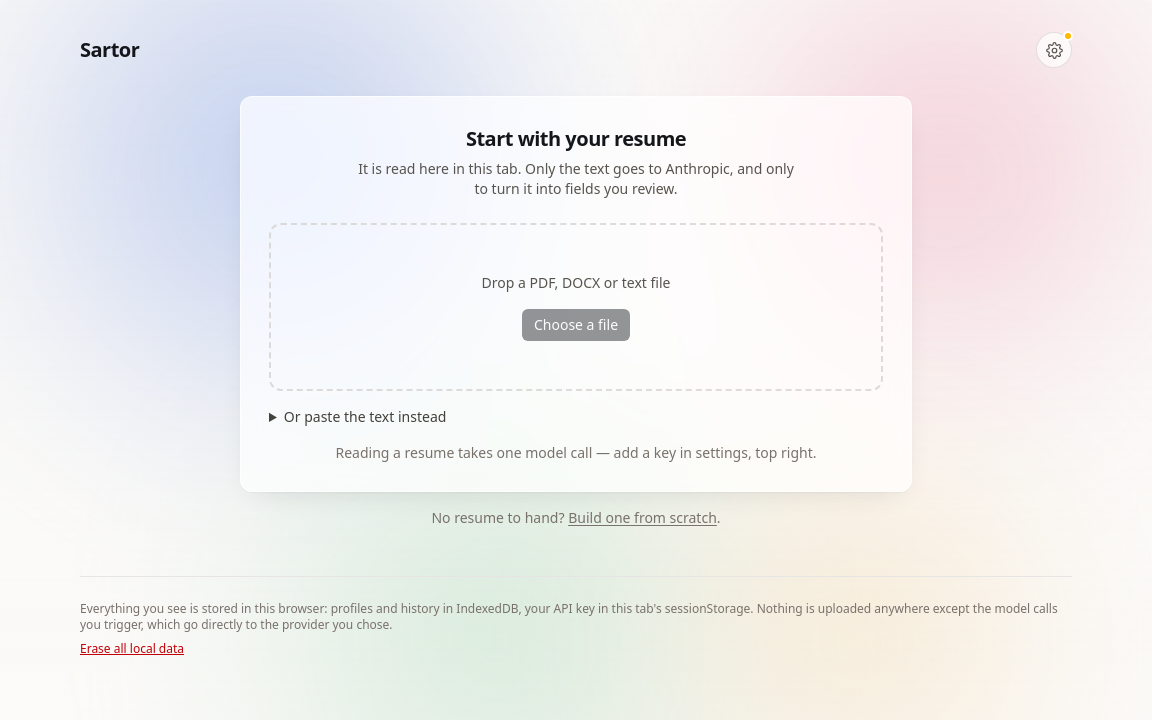
Test case: App › never renders the key in full unless it is asked for
Expected: the heading "Sartor" is shown, [80,36,139,64]
Click the button named "settings" at (1054, 50), box [1036,32,1072,68]
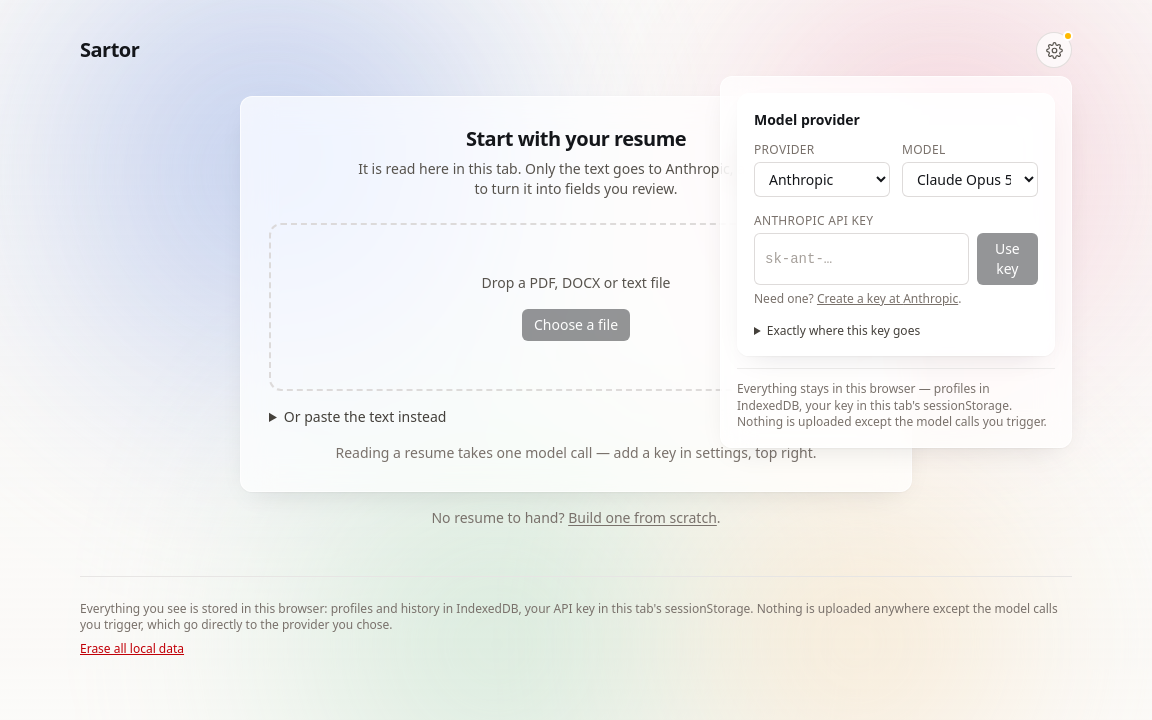
Now the dropdown labelled "Provider" is shown, box [754,162,890,197]
Type "sk-ant-supersecretvalue-abcdefg" into the password field labelled "Anthropic API key" at (861, 259), box [754,233,969,285]
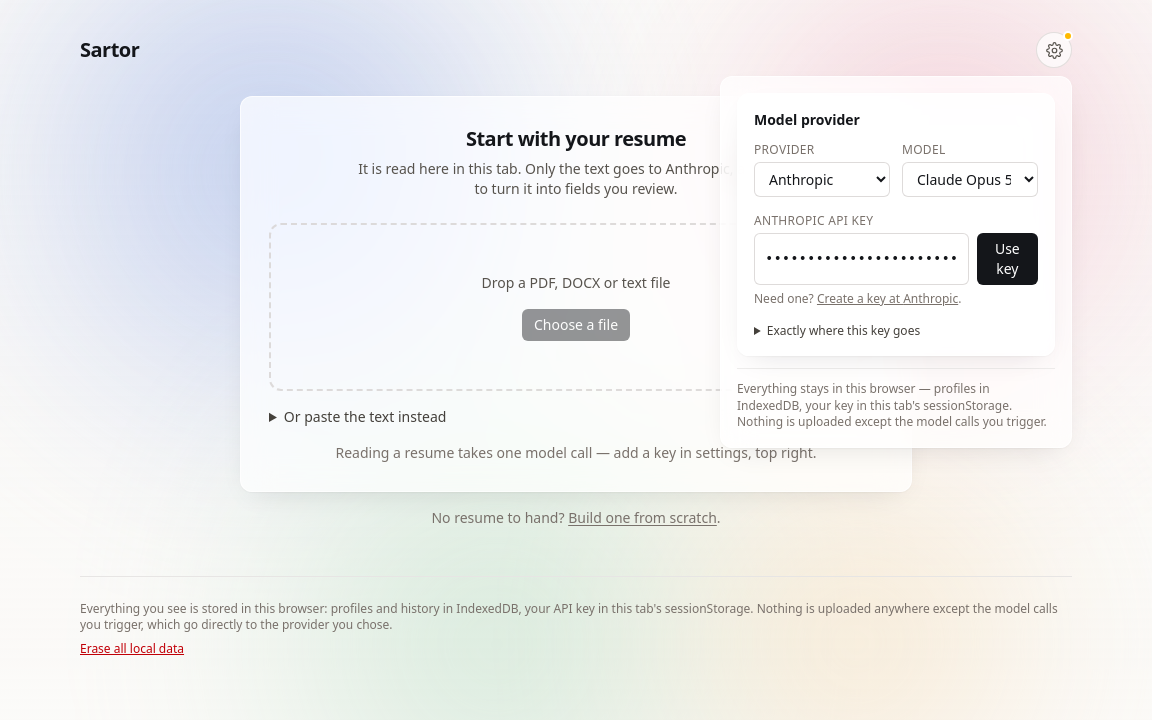
Click the button "Use key" at (1007, 259), box [977,233,1038,285]
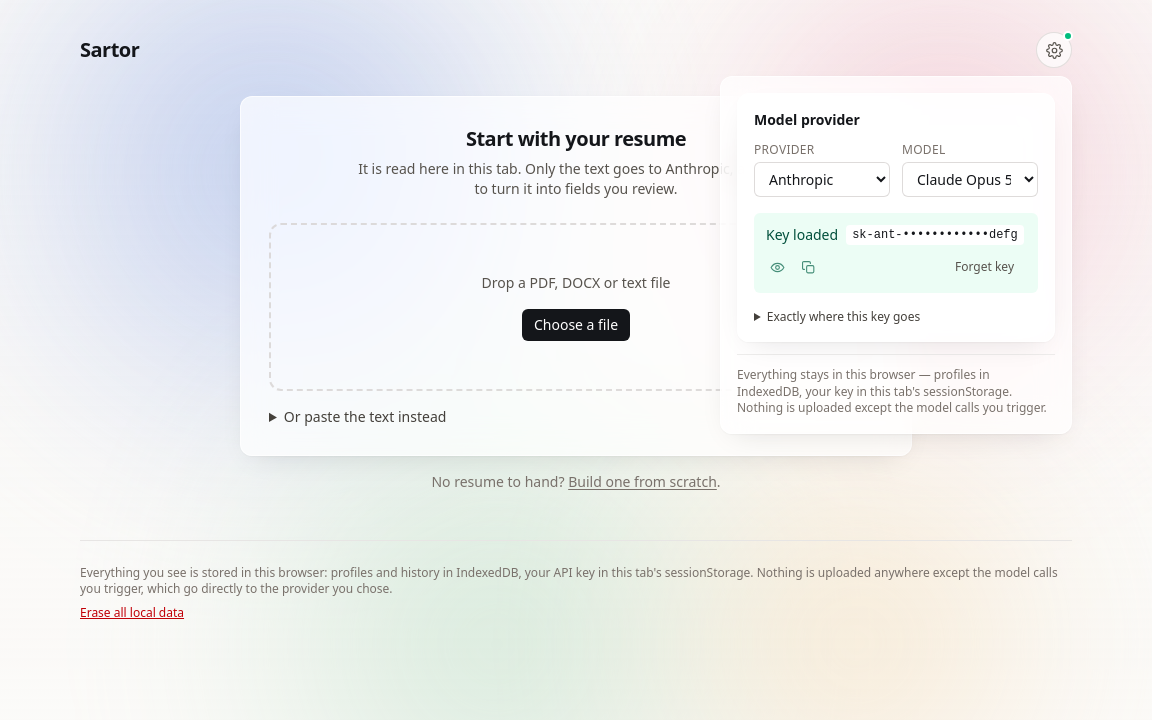
Now the text "Key loaded" is shown, box [766,225,838,245]
Now the text "•" is shown, box [852,228,1018,242]
